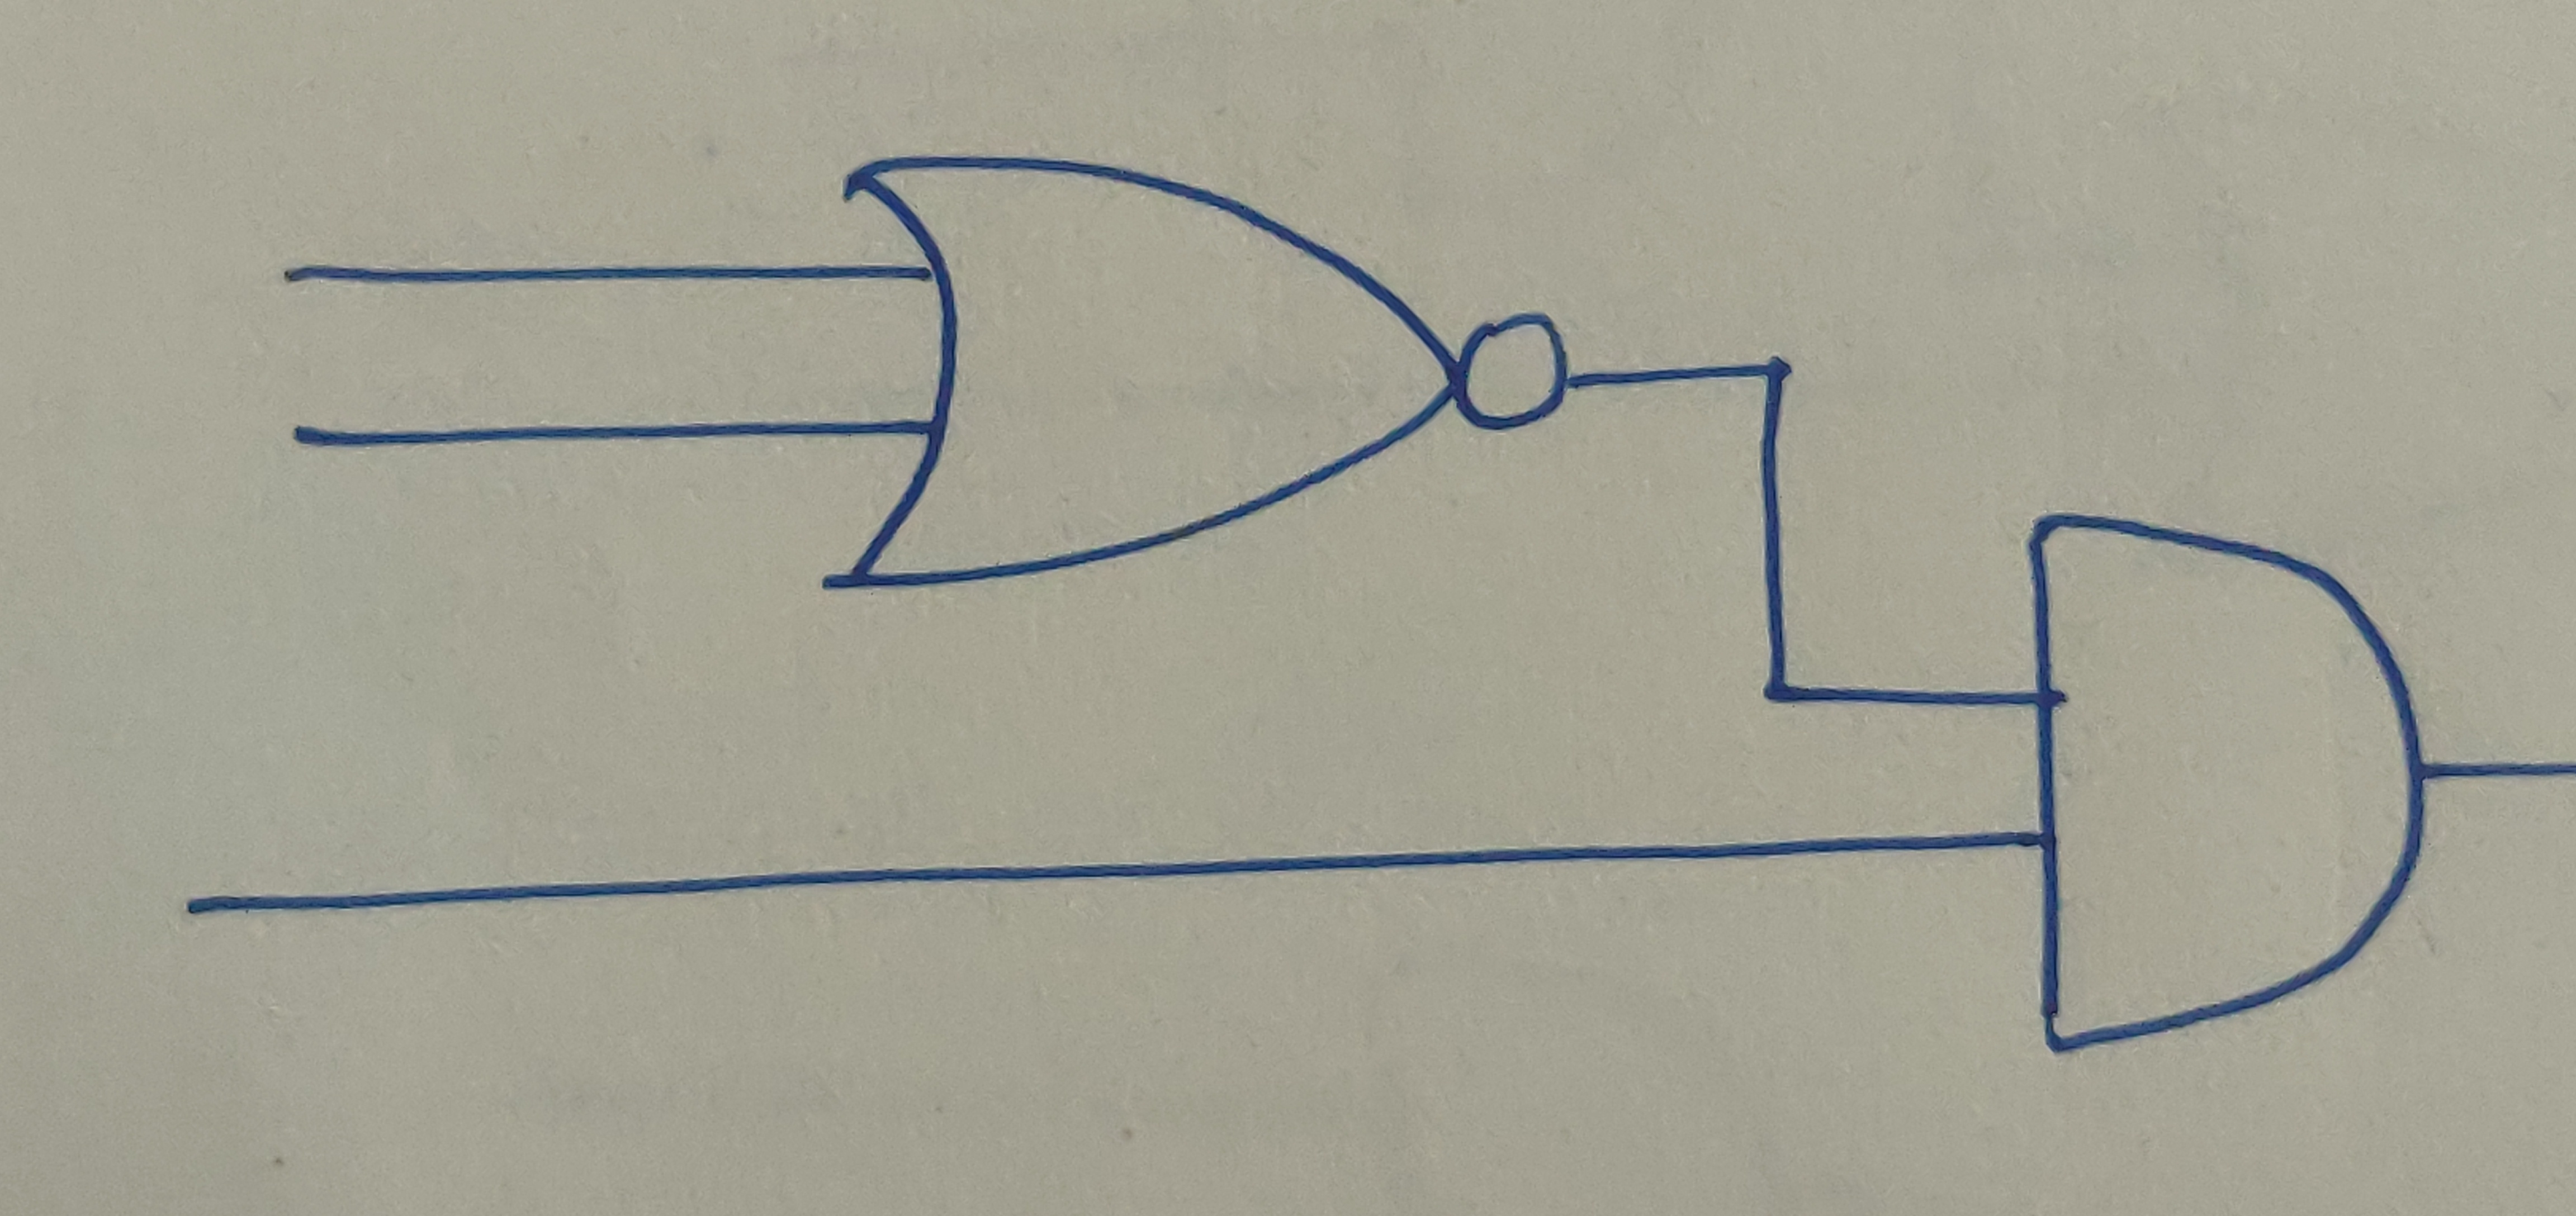and: (2017, 503, 2445, 1062)
not: (1452, 309, 1577, 437)
or: (831, 145, 1462, 595)
